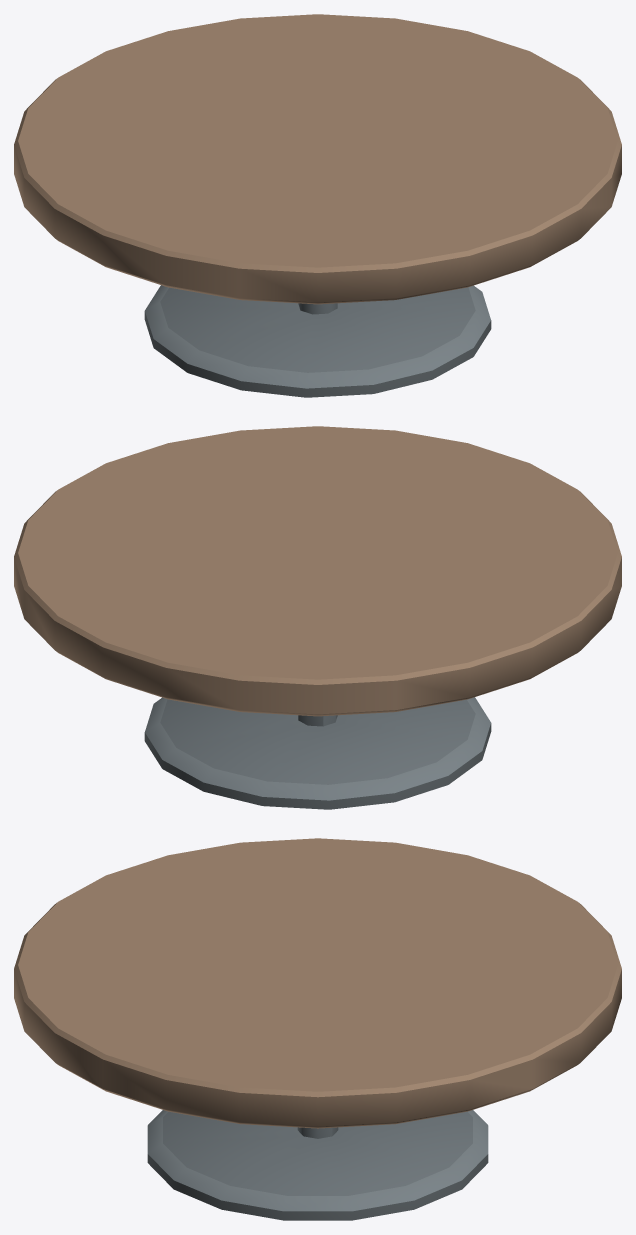
File: kit_table_round.glb
The picture shows the model from 3 angles, top to bottom: view 1: azimuth 30°, elevation 25°; view 2: azimuth 150°, elevation 25°; view 3: azimuth 270°, elevation 25°; orthographic projection.
Parts seen in each view (by area): view 1: table_round_A; view 2: table_round_A; view 3: table_round_A.
Part boxes in pixels (x1,y1,x2,y2): table_round_A: [14, 14, 621, 397]; table_round_A: [14, 426, 621, 809]; table_round_A: [14, 838, 621, 1220].
Bounding box in the file's own units: 1.5 × 0.501 × 1.5.
1 material, 1 textured.
